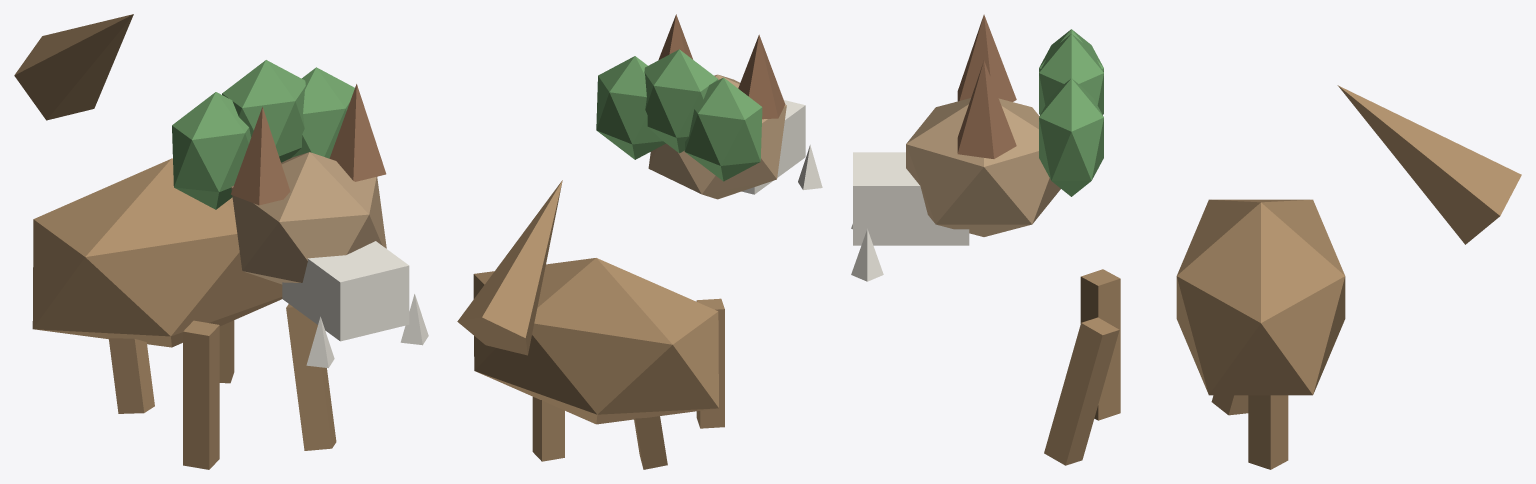
The model's file is npcpose_wolf_walk_06.glb.
The picture shows the model from 3 angles, left to right: view 1: azimuth 30°, elevation 25°; view 2: azimuth 150°, elevation 25°; view 3: azimuth 270°, elevation 25°; orthographic projection. The views are drawn at different scales.
Visible parts, largest first — view 1: npcpose; view 2: npcpose; view 3: npcpose.
Part boxes in pixels (x1,y1,x2,y2): npcpose: [14, 14, 428, 469]; npcpose: [457, 14, 822, 469]; npcpose: [851, 14, 1521, 469].
Size of the model in its own units: 0.8873 by 1.22 by 1.84.
